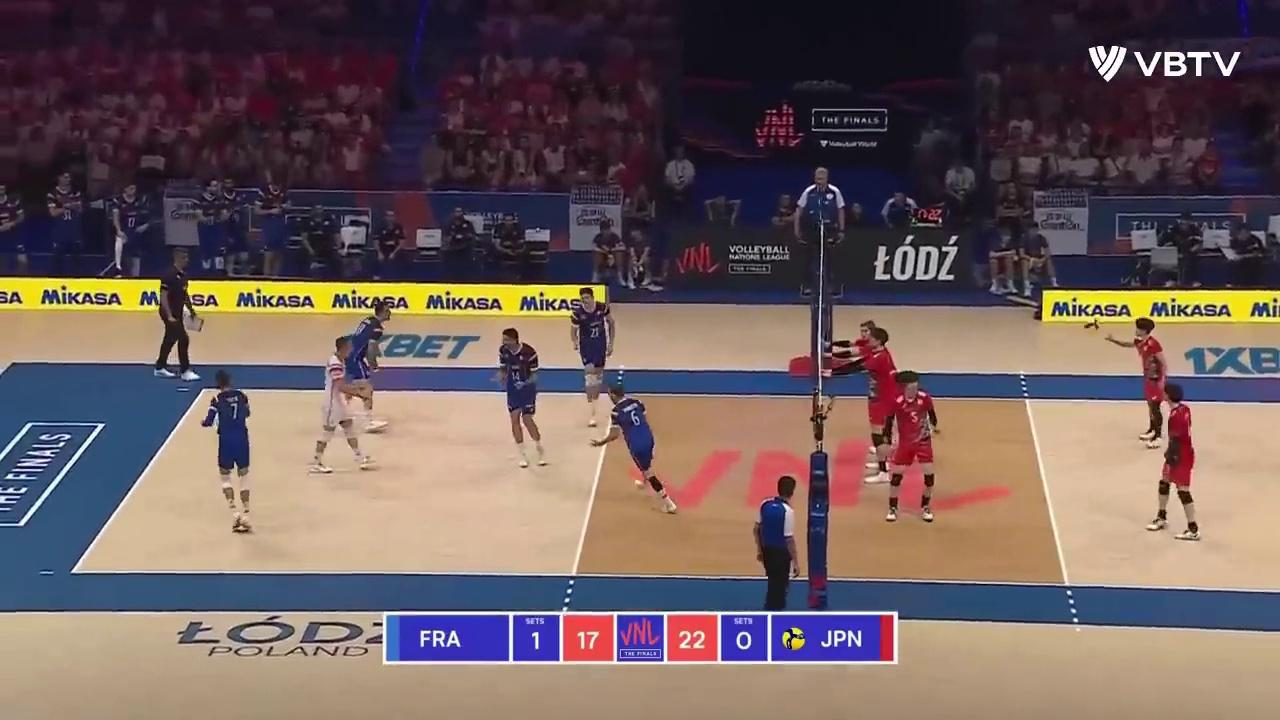ball: (1083, 317, 1101, 332)
